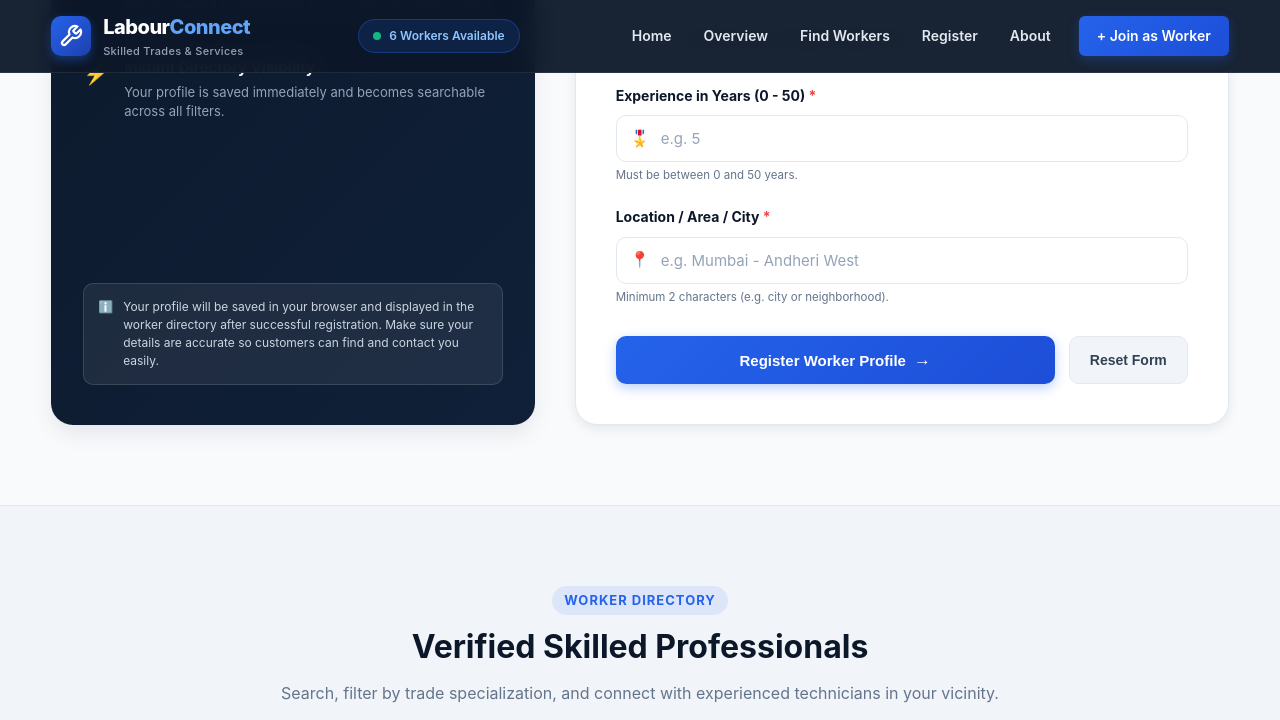
Scenario: Labour Connect Web Application › displays field validation errors on empty form submit
This screenshot has width=1280, height=720.
(page scrolled)
Click the button "Register Worker Profile →": (835, 360) [616,336,1055,384]
(page scrolled)
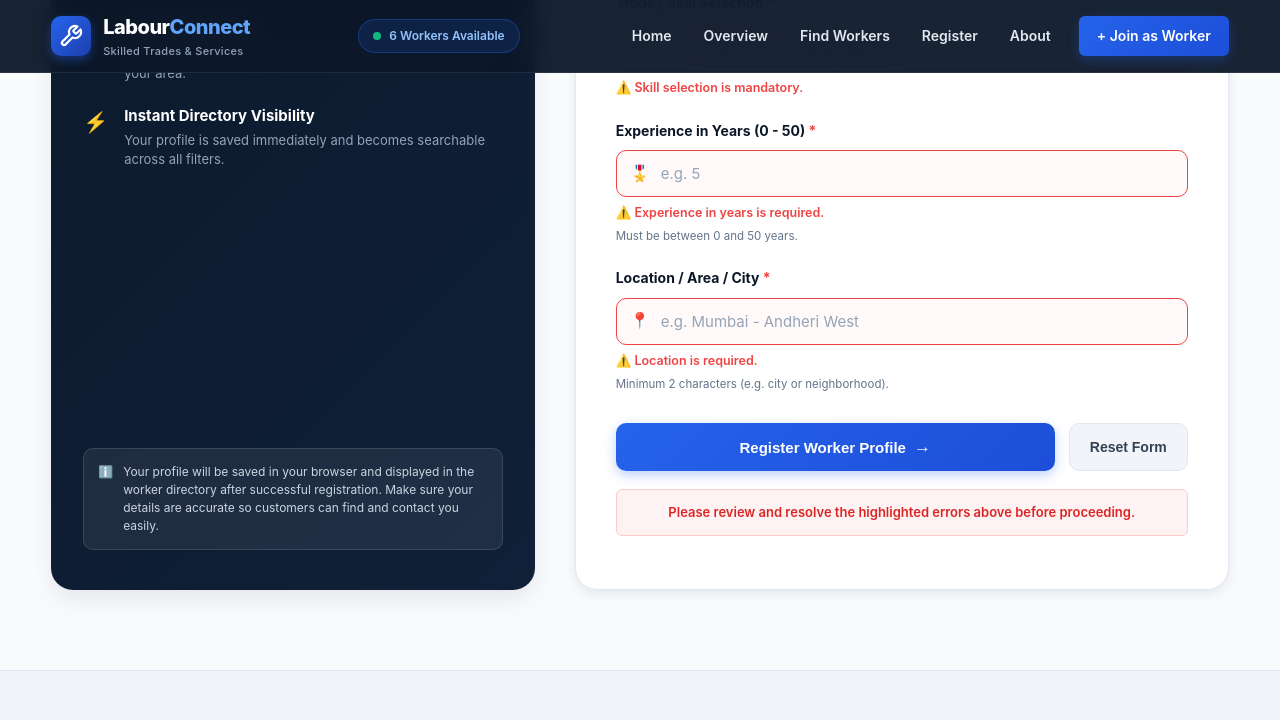
Check: the text "⚠️ Skill selection is mandatory." is shown, box [616,80,803,95]
Check: the text "⚠️ Experience in years is required." is shown, box [616,205,824,220]
Check: the text "⚠️ Location is required." is shown, box [616,353,758,368]
